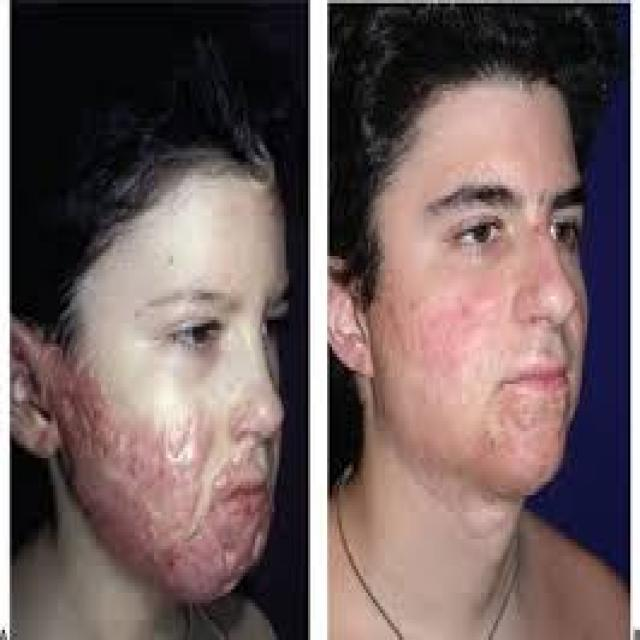burn: (8, 315, 278, 601), (326, 205, 586, 492)
